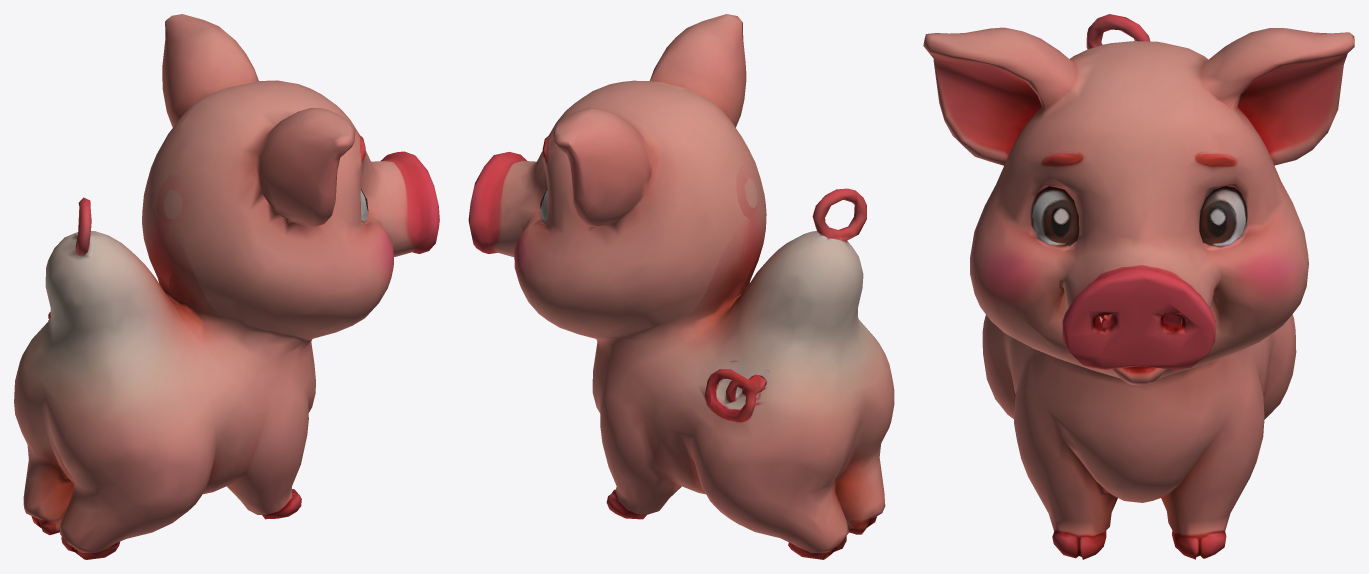
The model's file is CutePiggy.glb.
3 views of the same model, side by side, from view 1: azimuth 30°, elevation 25°; view 2: azimuth 150°, elevation 25°; view 3: azimuth 270°, elevation 25° (orthographic). The views are drawn at different scales.
Visible parts, largest first — view 1: tripo_node_d95f9c69-394b-4fb2-bda6-7e5b881c02eb; view 2: tripo_node_d95f9c69-394b-4fb2-bda6-7e5b881c02eb; view 3: tripo_node_d95f9c69-394b-4fb2-bda6-7e5b881c02eb.
Boxes of the visible parts, box(x1,y1,x2,y2) form: tripo_node_d95f9c69-394b-4fb2-bda6-7e5b881c02eb: box(14, 14, 439, 559); tripo_node_d95f9c69-394b-4fb2-bda6-7e5b881c02eb: box(468, 14, 894, 559); tripo_node_d95f9c69-394b-4fb2-bda6-7e5b881c02eb: box(923, 14, 1354, 559).
Size of the model in its own units: 0.9324 by 1 by 0.7447.
1 material, 1 textured.
